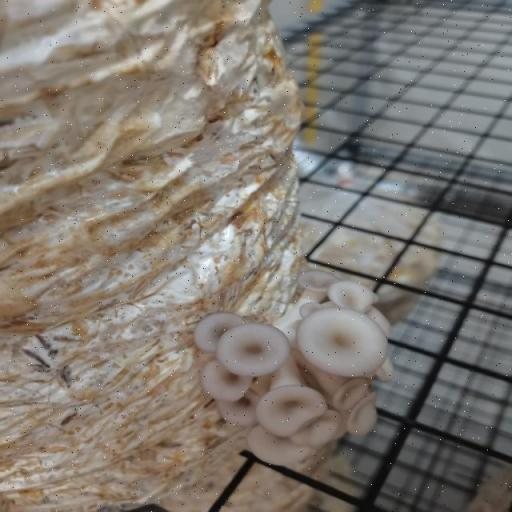White Oyster Mushroom: (190, 265, 399, 469)
